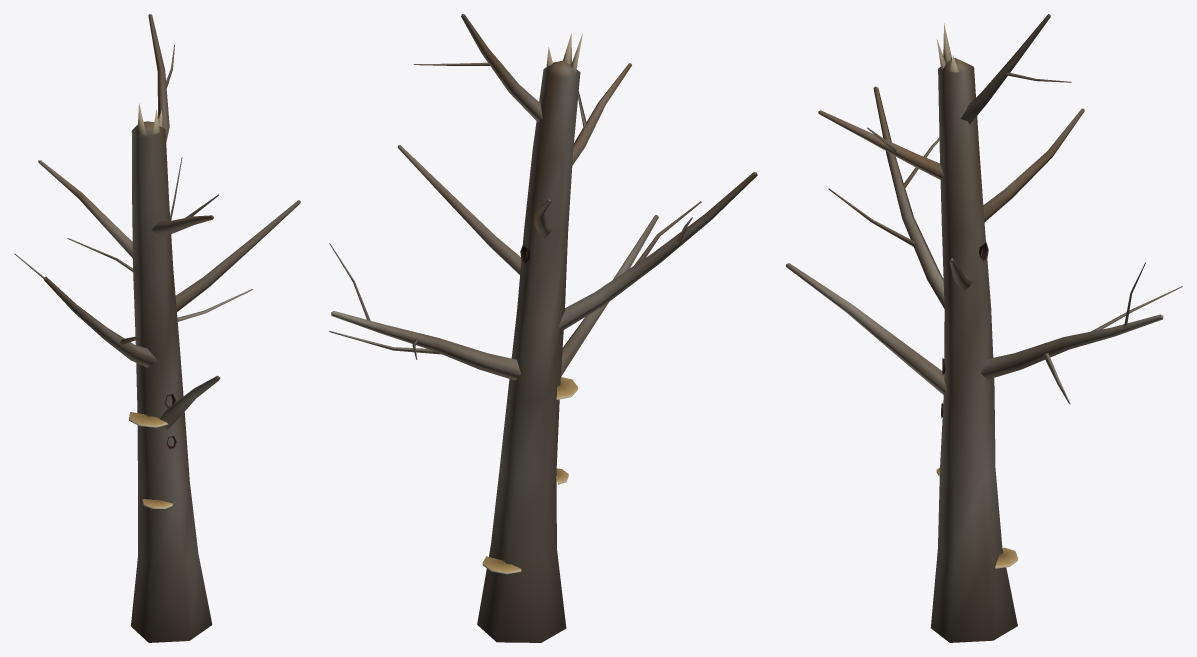
The model's file is snag-a.lod1.glb.
3 views of the same model, side by side, from view 1: azimuth 30°, elevation 25°; view 2: azimuth 150°, elevation 25°; view 3: azimuth 270°, elevation 25° (orthographic). The views are drawn at different scales.
Size of the model in its own units: 3.69 by 6.86 by 3.96.
